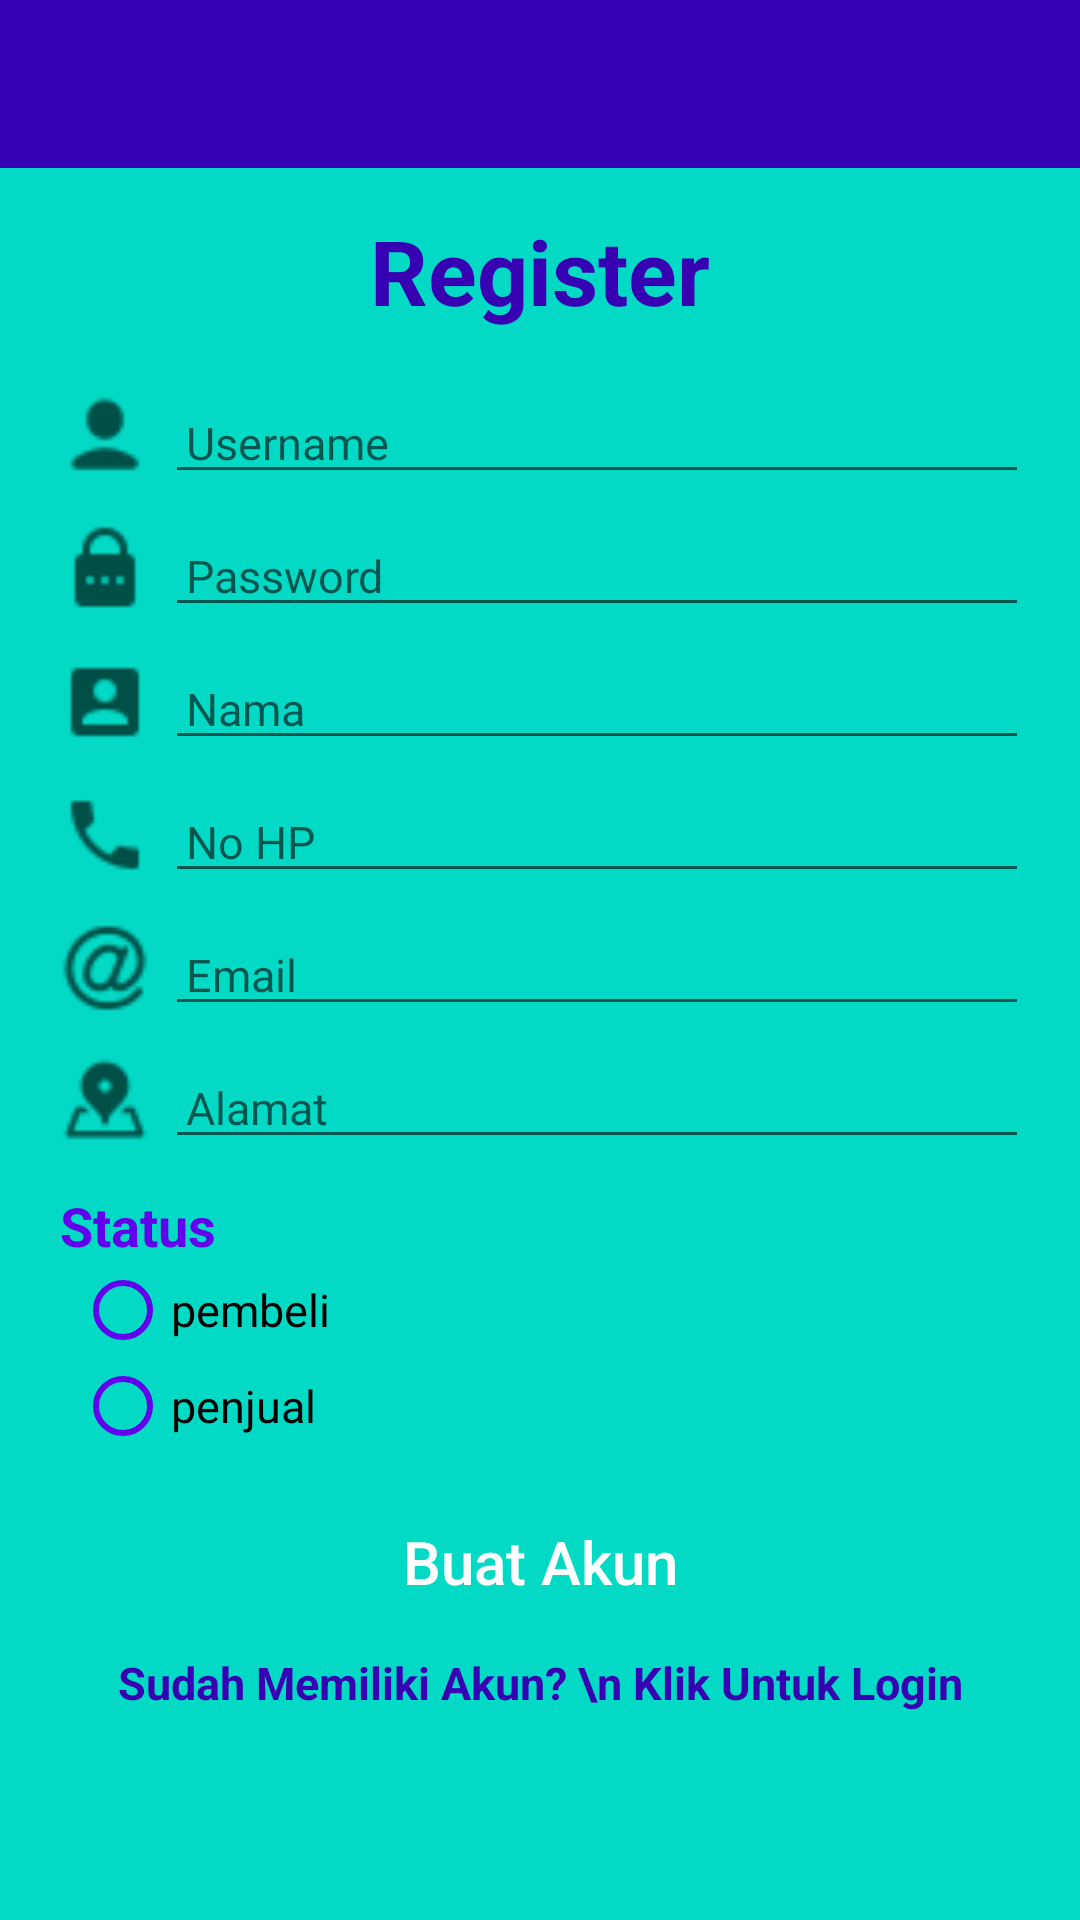

Icons on this 1080px x 1920px Android screen, each with its box as rect(x1, y1, x2, y2):
address: rect(64, 1060, 146, 1139)
phone: rect(70, 800, 140, 870)
